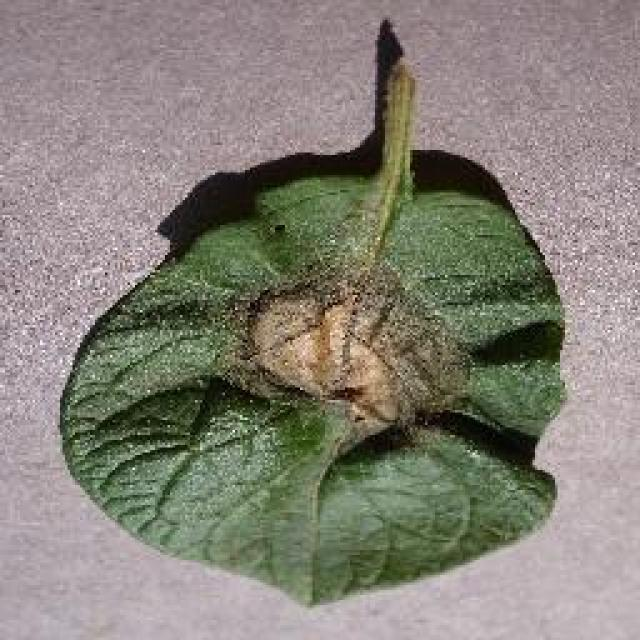Potato___Late_blight: (56, 59, 572, 612)
